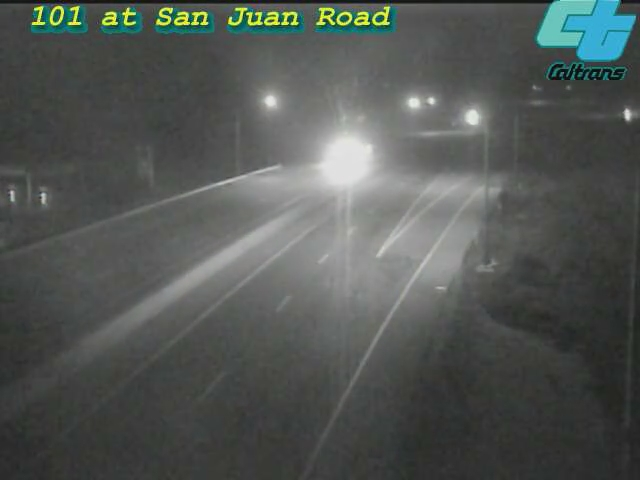vehicle: (321, 133, 371, 183), (446, 94, 496, 144), (602, 91, 640, 141)
